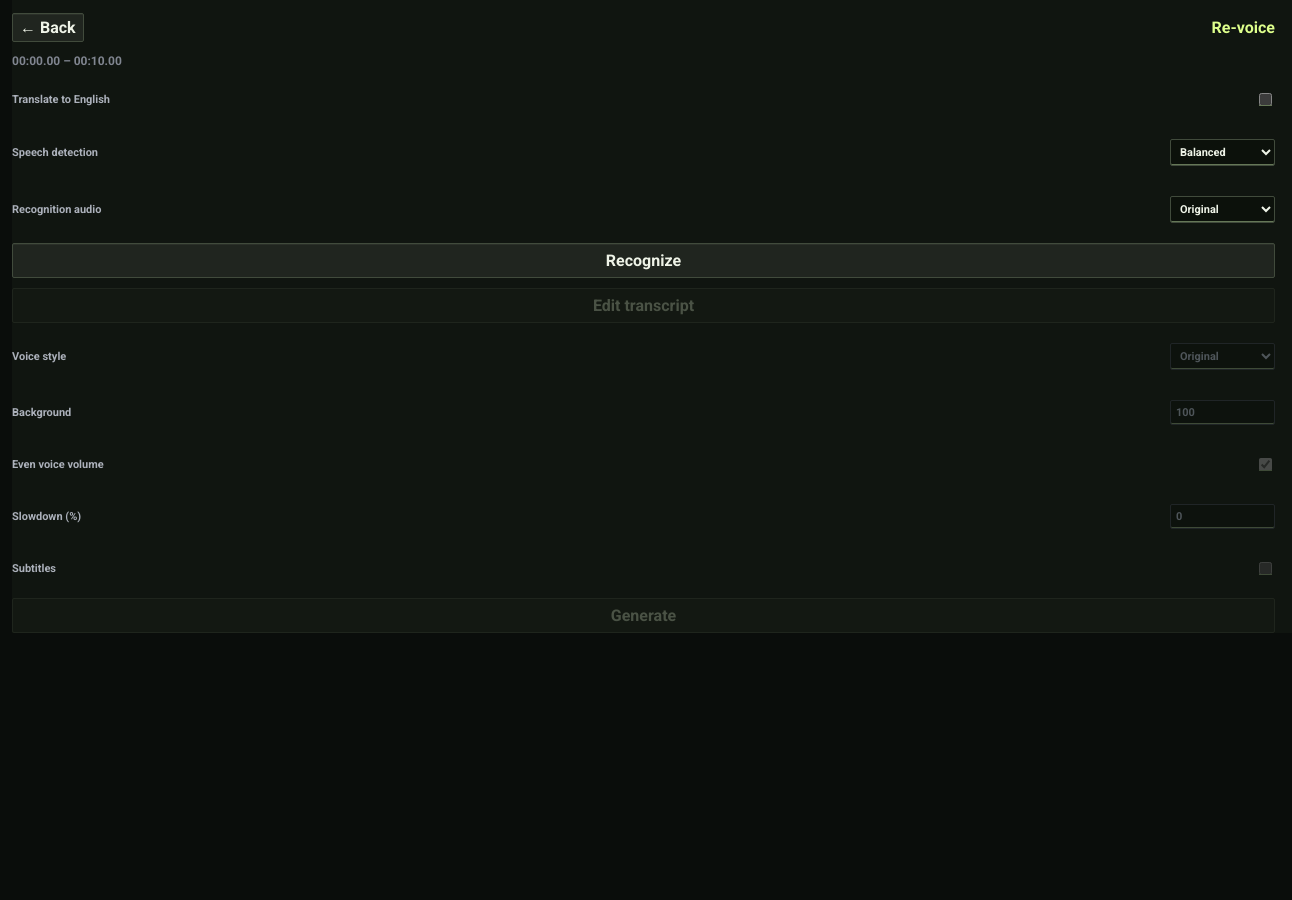
Test: Re-voice desktop › requires recognition again for an older uncleaned draft
This screenshot has width=1292, height=900.
Click the button "Recognize": (644, 260) [12, 243, 1275, 278]
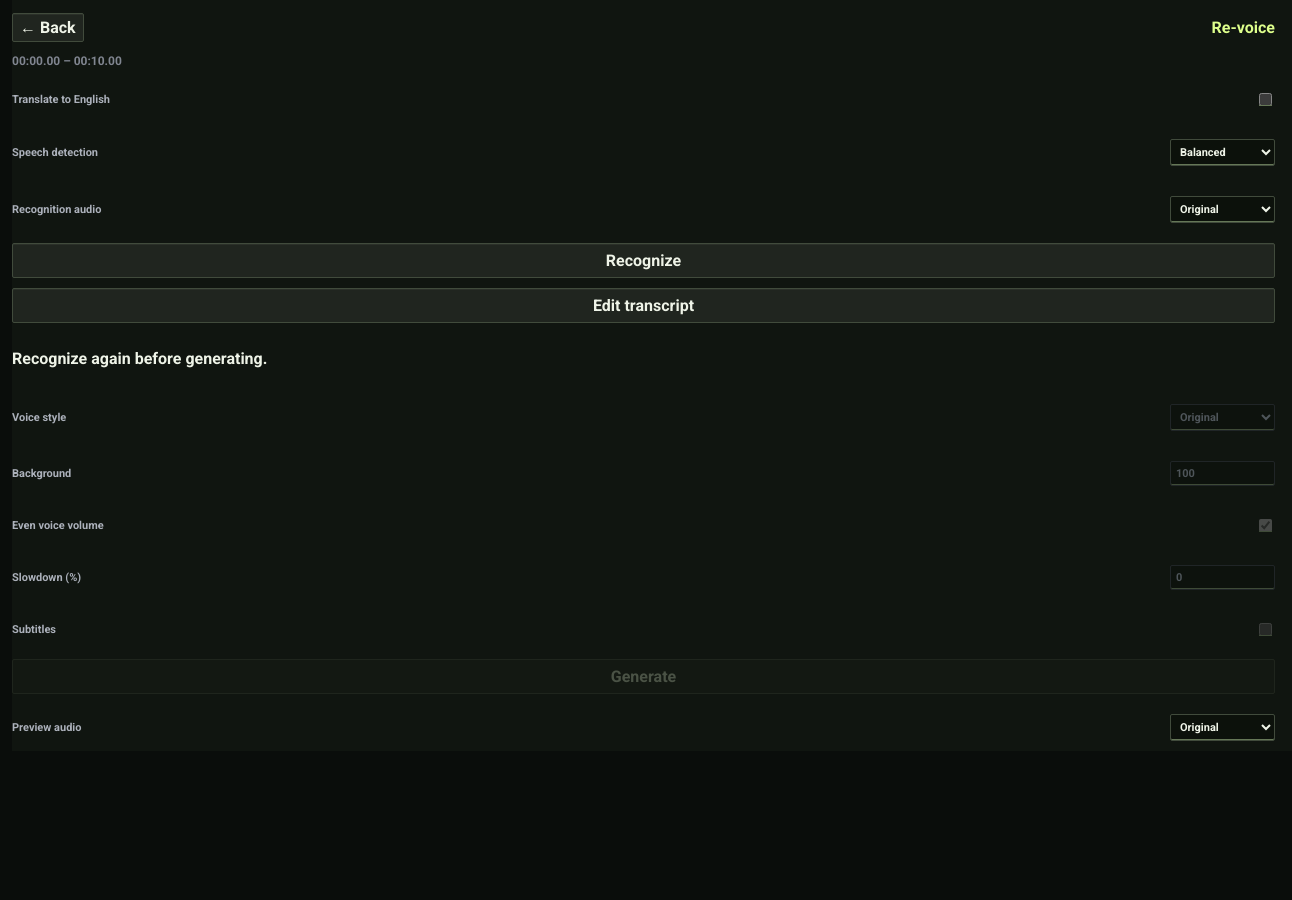
Expected: the number field named "Background" is disabled, [1170, 461, 1275, 486]
Now the text "Recognize again before generating." is shown, box [12, 349, 267, 368]
